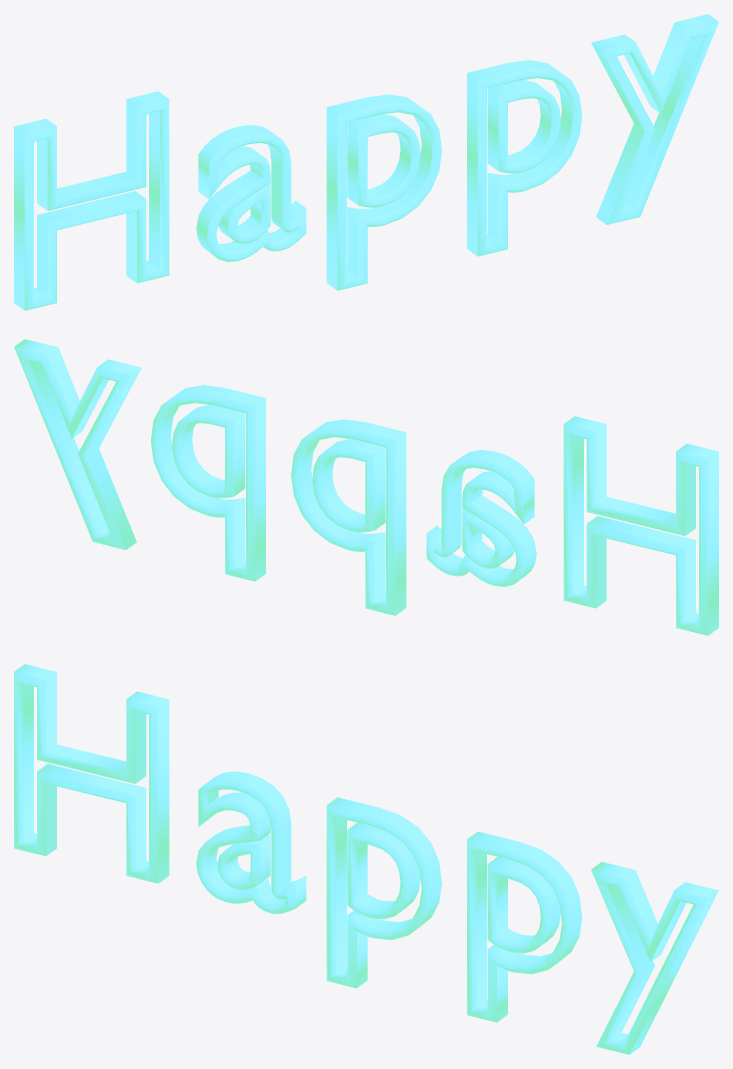
3 views of the same model, one above another, from view 1: azimuth 30°, elevation 25°; view 2: azimuth 150°, elevation 25°; view 3: azimuth 330°, elevation 25° (orthographic).
Visible parts, largest first — view 1: Text; view 2: Text; view 3: Text.
Boxes of the visible parts, left/top/right/bottom form: Text: left=14, top=14, right=718, bottom=310; Text: left=14, top=339, right=718, bottom=635; Text: left=14, top=664, right=718, bottom=1054.
Size of the model in its own units: 297 by 95.2 by 12.
